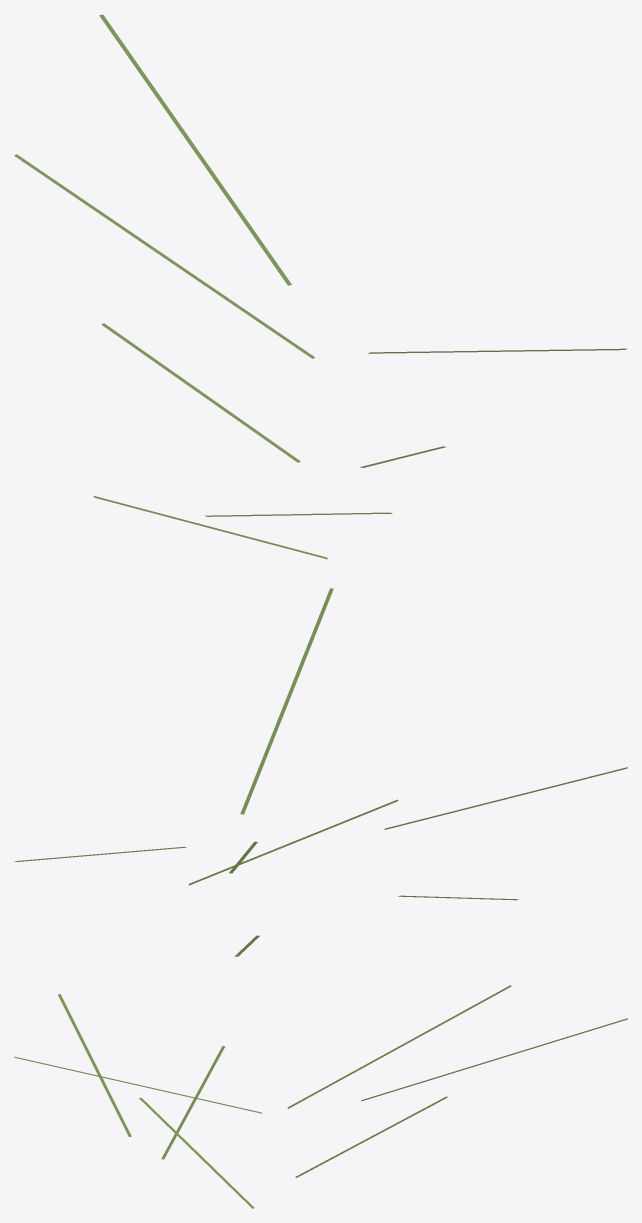
Rendered from shrub_lod2.glb.
3 views of the same model, one above another, from view 1: azimuth 30°, elevation 25°; view 2: azimuth 150°, elevation 25°; view 3: azimuth 270°, elevation 25° (orthographic). The views are drawn at different scales.
Parts seen in each view (by area): view 1: Leaves; view 2: Leaves; view 3: Leaves.
Boxes of the visible parts, bbox=[...] form: Leaves: bbox=[14, 14, 627, 559]; Leaves: bbox=[14, 588, 627, 956]; Leaves: bbox=[14, 985, 627, 1208].
Size of the model in its own units: 0.7986 by 0.5161 by 1.6.
